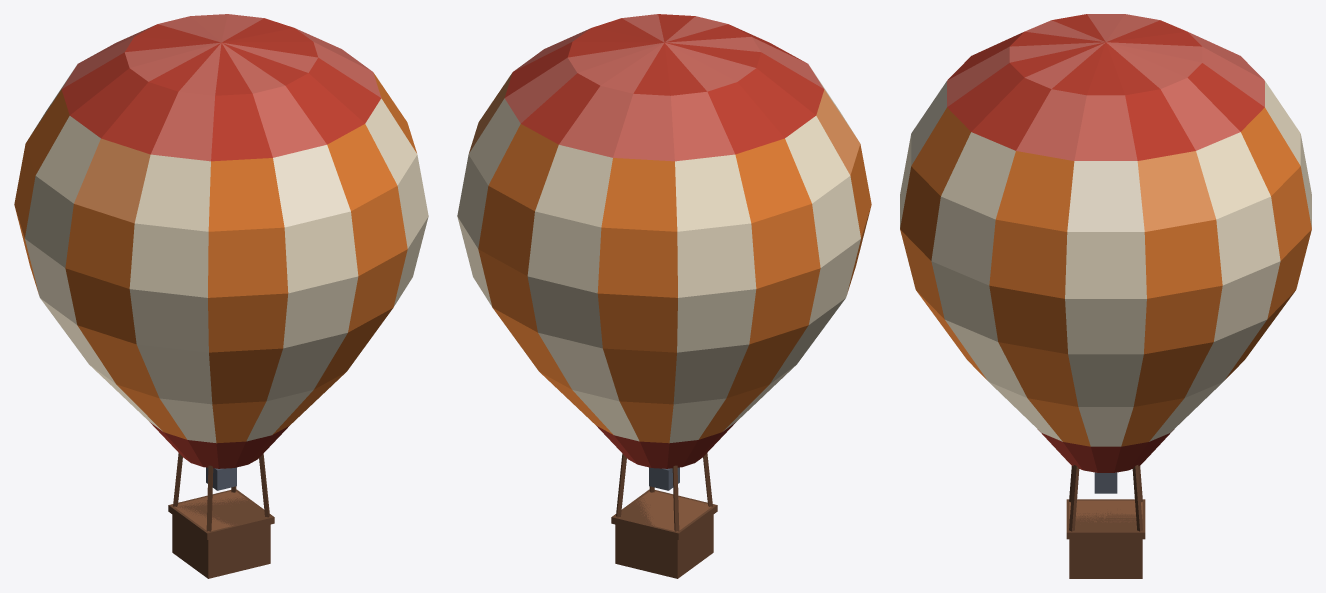
Rendered from SM_Balloon_A.fbx.
The picture shows the model from 3 angles, left to right: view 1: azimuth 30°, elevation 25°; view 2: azimuth 150°, elevation 25°; view 3: azimuth 270°, elevation 25°; orthographic projection.
Parts seen in each view (by area): view 1: SM_Balloon_A; view 2: SM_Balloon_A; view 3: SM_Balloon_A.
Part boxes in pixels (<box>): SM_Balloon_A: <box>14,14,428,578</box>; SM_Balloon_A: <box>457,14,871,578</box>; SM_Balloon_A: <box>900,14,1311,578</box>.
Size of the model in its own units: 9.02 by 12.6 by 9.02.
